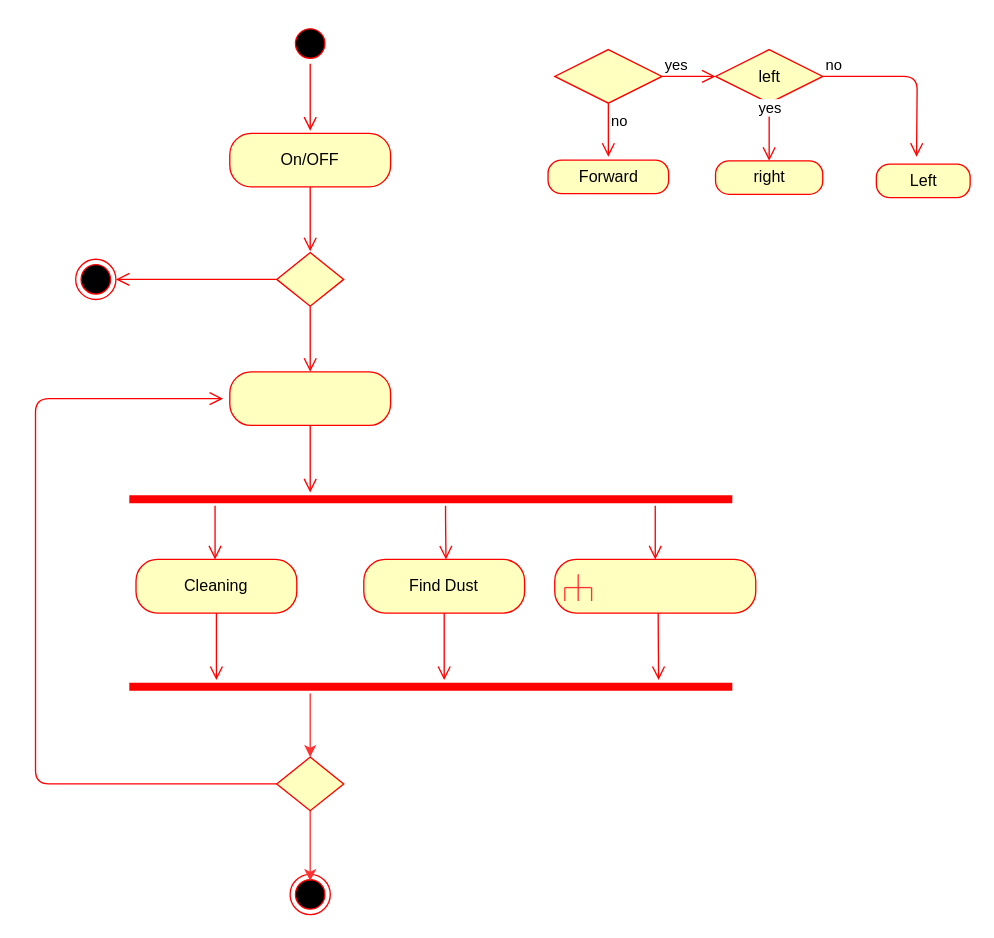
Image size: 994x938. Some labels were removed from this diagram. The shapes that lost their labels are listed below. From the top down, each one's centre as x and y in pixels, then its label:
At (x=607, y=75): "Obstacle".
At (x=309, y=398): "Move".
At (x=654, y=585): "Detect Obstacle".
